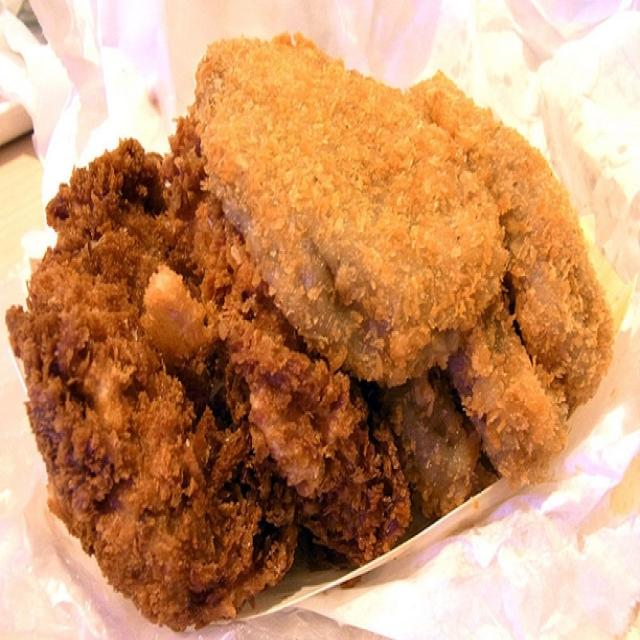炸货点心: (3, 15, 636, 622)
